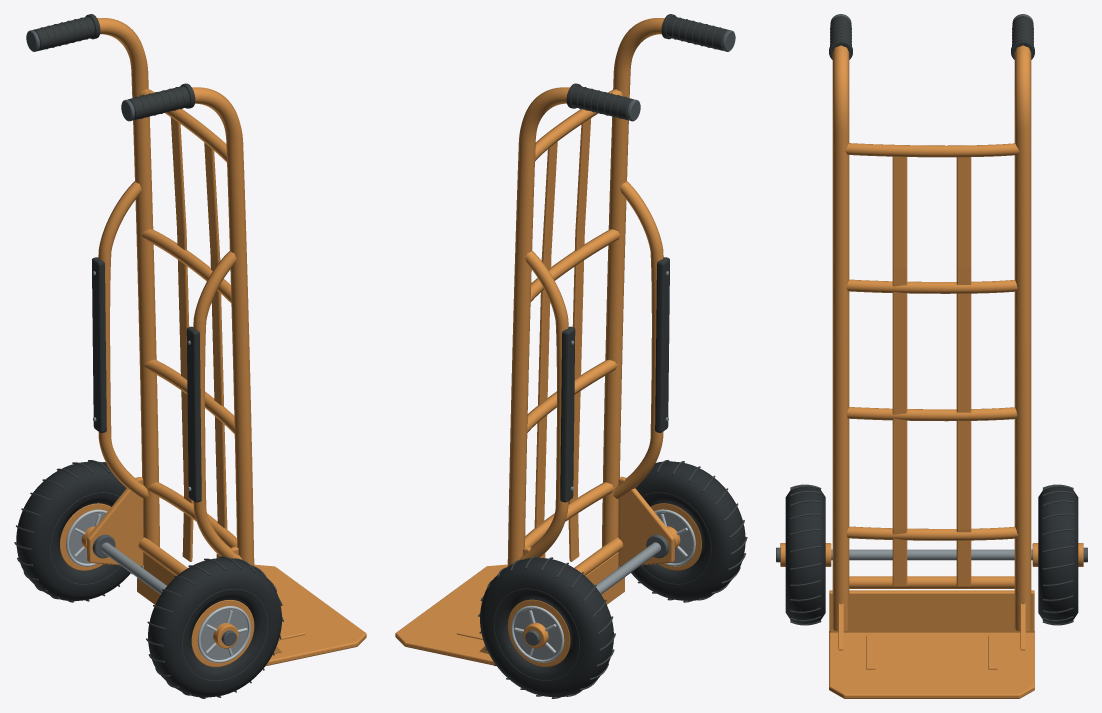
File: city-sack-hand-truck.glb
3 views of the same model, side by side, from view 1: azimuth 30°, elevation 25°; view 2: azimuth 150°, elevation 25°; view 3: azimuth 270°, elevation 25° (orthographic). The views are drawn at different scales.
Parts seen in each view (by area): view 1: Curved upright tubular load frame, Left pneumatic wheel assembly, Right pneumatic wheel assembly, Rear stair glide supports, Reinforced toe plate assembly, Axle and structural wheel brackets, Protected ergonomic handle grips; view 2: Curved upright tubular load frame, Right pneumatic wheel assembly, Left pneumatic wheel assembly, Rear stair glide supports, Reinforced toe plate assembly, Axle and structural wheel brackets, Protected ergonomic handle grips; view 3: Curved upright tubular load frame, Reinforced toe plate assembly, Left pneumatic wheel assembly, Right pneumatic wheel assembly, Axle and structural wheel brackets, Protected ergonomic handle grips.
Boxes of the visible parts, left/top/right/bottom form: Curved upright tubular load frame: left=97, top=18, right=254, bottom=565; Left pneumatic wheel assembly: left=146, top=556, right=283, bottom=698; Right pneumatic wheel assembly: left=14, top=460, right=132, bottom=602; Rear stair glide supports: left=92, top=181, right=241, bottom=559; Reinforced toe plate assembly: left=137, top=552, right=366, bottom=666; Axle and structural wheel brackets: left=86, top=477, right=238, bottom=594; Protected ergonomic handle grips: left=26, top=14, right=195, bottom=121; Curved upright tubular load frame: left=507, top=18, right=664, bottom=566; Right pneumatic wheel assembly: left=478, top=556, right=615, bottom=698; Left pneumatic wheel assembly: left=631, top=460, right=747, bottom=602; Rear stair glide supports: left=519, top=181, right=669, bottom=559; Reinforced toe plate assembly: left=395, top=552, right=624, bottom=665; Axle and structural wheel brackets: left=523, top=476, right=674, bottom=594; Protected ergonomic handle grips: left=566, top=14, right=735, bottom=121; Curved upright tubular load frame: left=832, top=45, right=1031, bottom=631; Reinforced toe plate assembly: left=829, top=590, right=1034, bottom=698; Left pneumatic wheel assembly: left=776, top=484, right=831, bottom=625; Right pneumatic wheel assembly: left=1032, top=484, right=1087, bottom=625; Axle and structural wheel brackets: left=831, top=549, right=1032, bottom=588; Protected ergonomic handle grips: left=829, top=14, right=1034, bottom=59.
Size of the model in its own units: 0.51 by 1.2 by 0.593.
